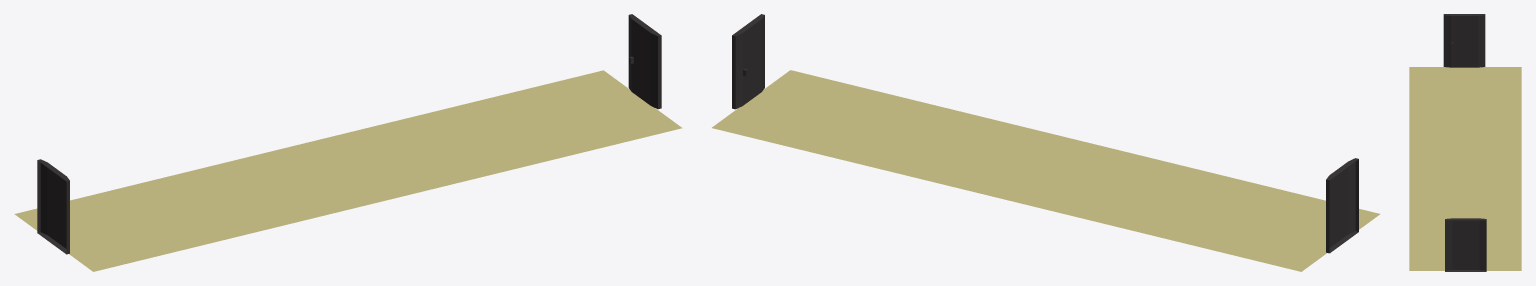
File: ByakkoStage3.1.fbx
3 renders of one model, left to right at view 1: azimuth 30°, elevation 25°; view 2: azimuth 150°, elevation 25°; view 3: azimuth 270°, elevation 25°, orthographic. The views are drawn at different scales.
Visible parts, largest first — view 1: Plane.057, Plane.032, Plane.033; view 2: Plane.057, Plane.032, Plane.033; view 3: Plane.057, Plane.033, Plane.032.
Part boxes in pixels (x1,y1,x2,y2): Plane.057: [14, 70, 682, 271]; Plane.032: [628, 14, 661, 109]; Plane.033: [37, 159, 69, 254]; Plane.057: [712, 70, 1380, 271]; Plane.032: [732, 14, 764, 109]; Plane.033: [1326, 158, 1358, 253]; Plane.057: [1409, 67, 1521, 270]; Plane.033: [1443, 14, 1485, 67]; Plane.032: [1445, 218, 1486, 271].
Size of the model in its own units: 83.75 by 9.85 by 19.25.
